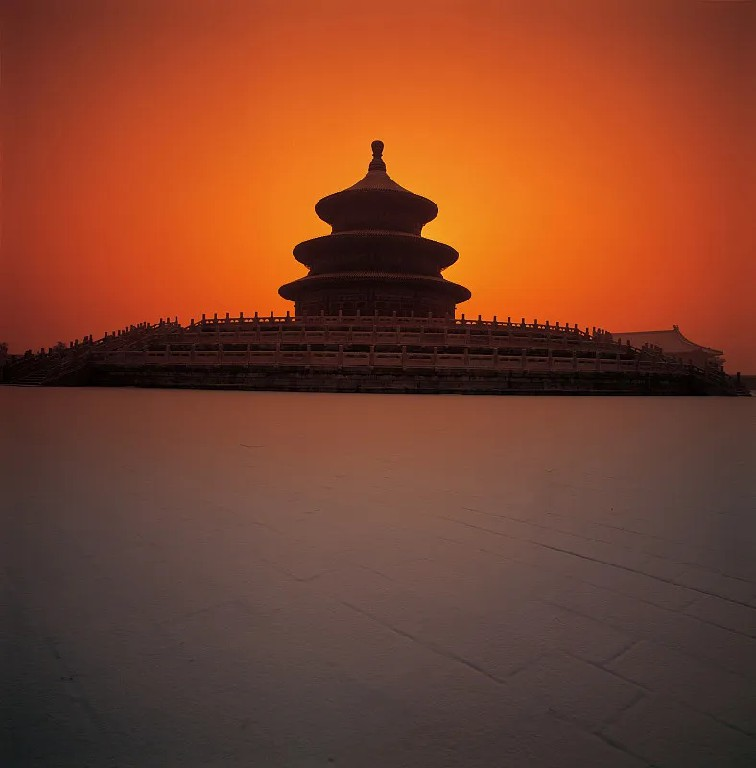Heaven: (278, 139, 472, 320)
